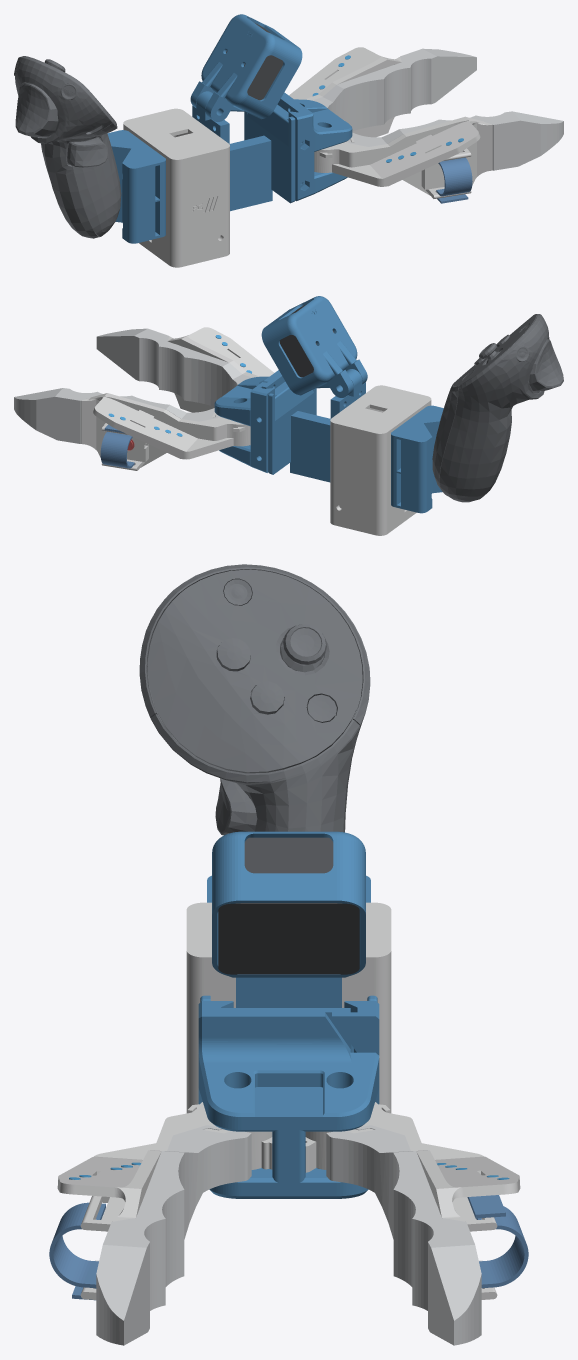
The model's file is chopstick_left.glb.
3 views of the same model, one above another, from view 1: azimuth 30°, elevation 25°; view 2: azimuth 150°, elevation 25°; view 3: azimuth 270°, elevation 25° (orthographic). The views are drawn at different scales.
Parts seen in each view (by area): view 1: quest_controller_envelope, ebox, jaw_right_dc, tip_tpu_left, d405_cup, d405_frame, quest_cradle, tip_tpu_right, chopstick_base_dc, jaw_left_dc_button, sleeve_strap_right, d405_envelope (+1 smaller); view 2: quest_controller_envelope, ebox, jaw_left_dc_button, tip_tpu_right, d405_cup, d405_frame, quest_cradle, tip_tpu_left, jaw_right_dc, chopstick_base_dc, chopstick_clip_dc, sleeve_strap_left (+2 smaller); view 3: quest_controller_envelope, chopstick_base_dc, tip_tpu_left, tip_tpu_right, d405_envelope, d405_cup, ebox, jaw_right_dc, jaw_left_dc_button, d405_frame, sleeve_strap_left, sleeve_strap_right (+1 smaller).
Boxes of the visible parts, x1,y1,x2,y2 form: quest_controller_envelope: (14, 56, 121, 238); ebox: (123, 108, 229, 264); jaw_right_dc: (314, 116, 492, 198); tip_tpu_left: (312, 48, 476, 131); d405_cup: (190, 14, 302, 121); d405_frame: (192, 91, 295, 211); quest_cradle: (107, 130, 165, 243); tip_tpu_right: (348, 111, 563, 170); chopstick_base_dc: (277, 92, 352, 201); jaw_left_dc_button: (289, 47, 401, 137); sleeve_strap_right: (436, 157, 472, 203); d405_envelope: (226, 23, 283, 100); quest_controller_envelope: (432, 314, 563, 502); ebox: (330, 385, 431, 532); jaw_left_dc_button: (81, 393, 250, 470); tip_tpu_right: (96, 328, 251, 406); d405_cup: (261, 296, 367, 397); d405_frame: (268, 369, 365, 482); quest_cradle: (391, 405, 443, 513); tip_tpu_left: (14, 388, 218, 443); jaw_right_dc: (167, 327, 273, 412); chopstick_base_dc: (214, 370, 285, 466); chopstick_clip_dc: (250, 382, 274, 472); sleeve_strap_left: (100, 424, 134, 468); quest_controller_envelope: (139, 564, 370, 835); chopstick_base_dc: (198, 1001, 379, 1198); tip_tpu_left: (326, 1125, 481, 1345); tip_tpu_right: (96, 1125, 251, 1345); d405_envelope: (218, 837, 359, 974); d405_cup: (212, 831, 365, 977); ebox: (186, 902, 391, 1113); jaw_right_dc: (57, 1102, 272, 1299); jaw_left_dc_button: (305, 1102, 520, 1299); d405_frame: (200, 977, 377, 1052); sleeve_strap_left: (467, 1195, 528, 1288); sleeve_strap_right: (49, 1202, 105, 1300).
Bounding box in the file's own units: 0.3322 × 0.1388 × 0.1405.
